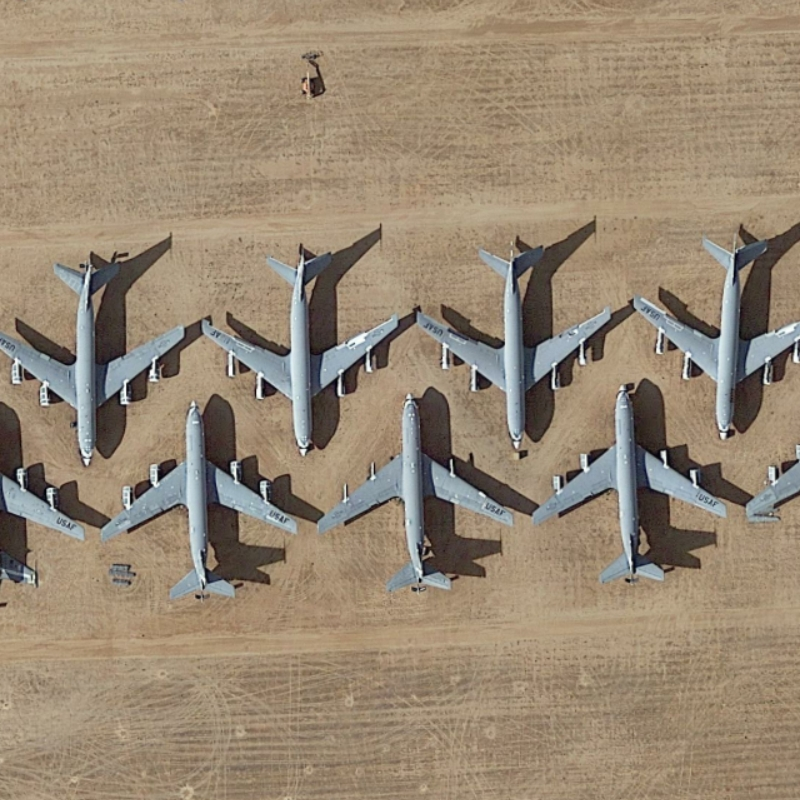A14: (195, 245, 405, 457), (95, 396, 309, 602), (413, 230, 616, 446), (531, 383, 733, 589), (315, 393, 515, 598), (1, 251, 188, 468), (626, 225, 800, 442)
